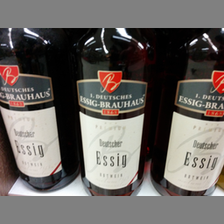vinegar: (73, 28, 153, 196), (1, 28, 80, 195), (158, 28, 224, 196)
